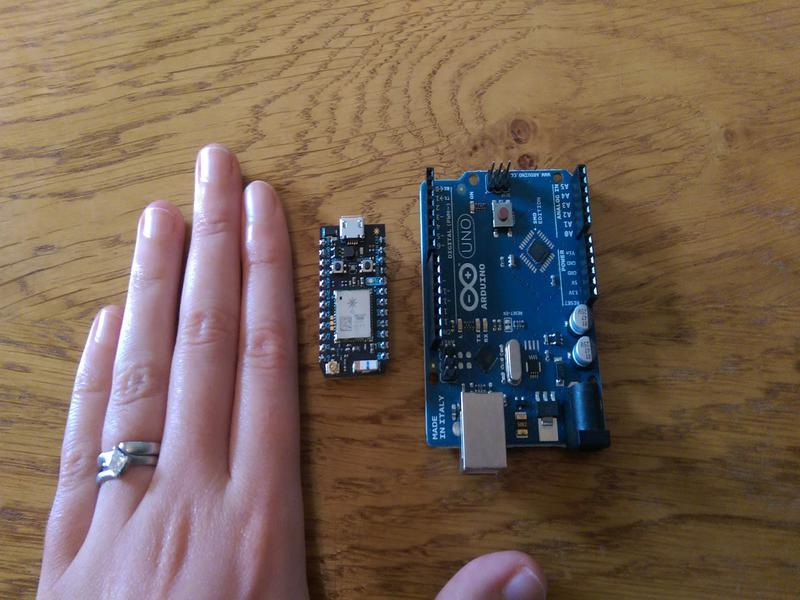Arduino UNO SMD: (413, 157, 617, 477)
